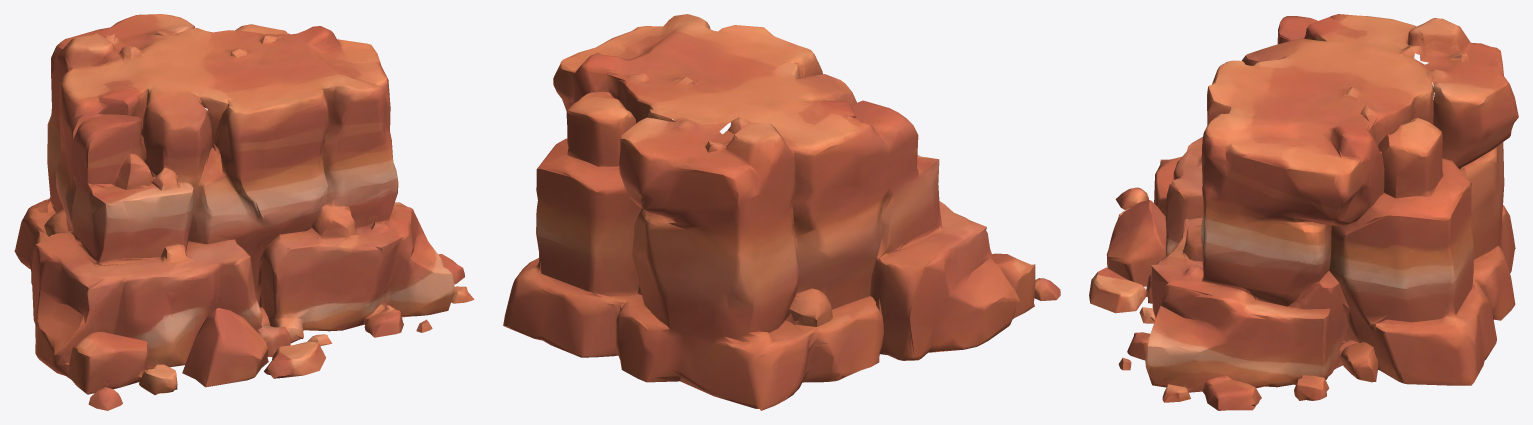
The model's file is mesa_chunk.glb.
3 views of the same model, side by side, from view 1: azimuth 30°, elevation 25°; view 2: azimuth 150°, elevation 25°; view 3: azimuth 270°, elevation 25° (orthographic). The views are drawn at different scales.
Visible parts, largest first — view 1: body; view 2: body; view 3: body.
Part boxes in pixels (x1,y1,x2,y2): body: (14,14,474,410); body: (503,14,1060,410); body: (1089,14,1518,410).
Bounding box in the file's own units: 2.66 × 1.4 × 2.24.
Materials: 1 (1 with a texture image).
